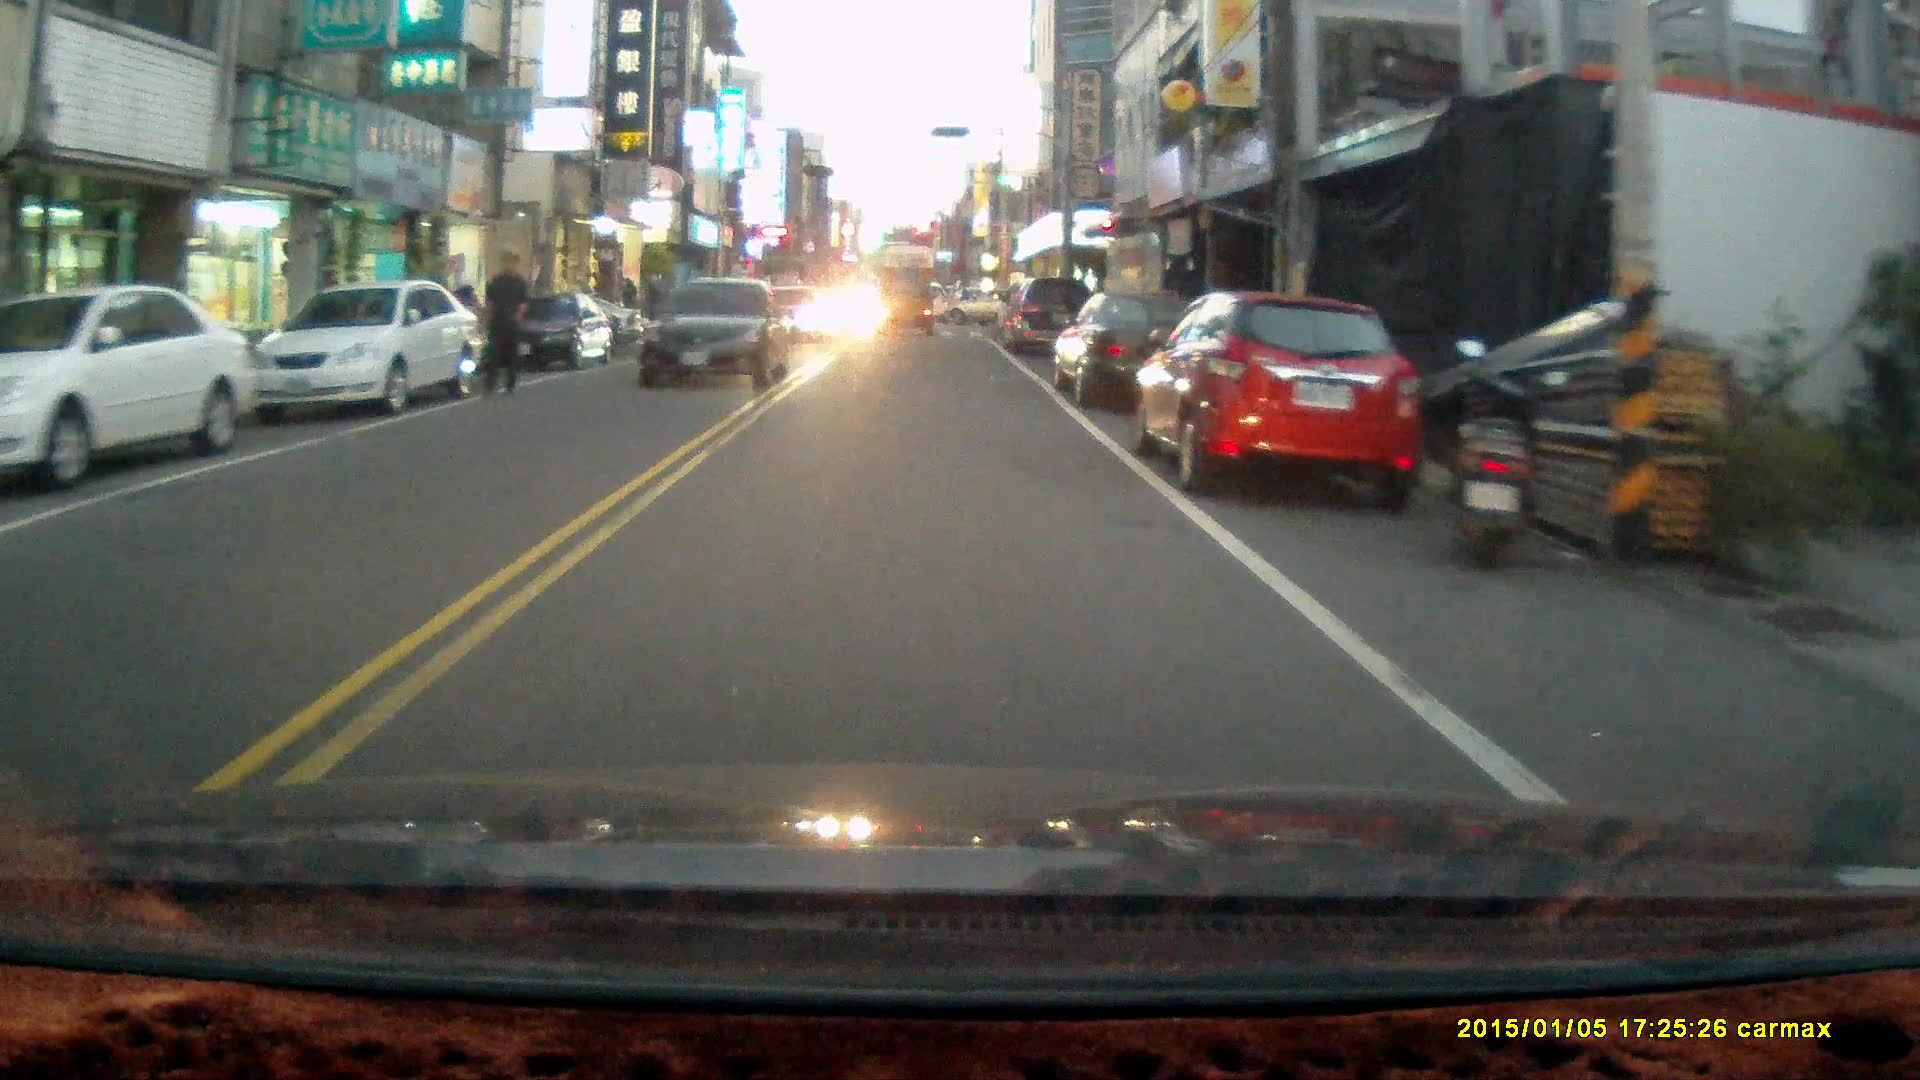pedestrian: (474, 252, 530, 400), (638, 272, 668, 352)
vehicle: (1138, 298, 1427, 509), (2, 286, 263, 493), (253, 284, 489, 423), (1051, 292, 1219, 415), (635, 277, 795, 396), (497, 290, 613, 379), (994, 276, 1104, 363), (873, 264, 937, 335)
